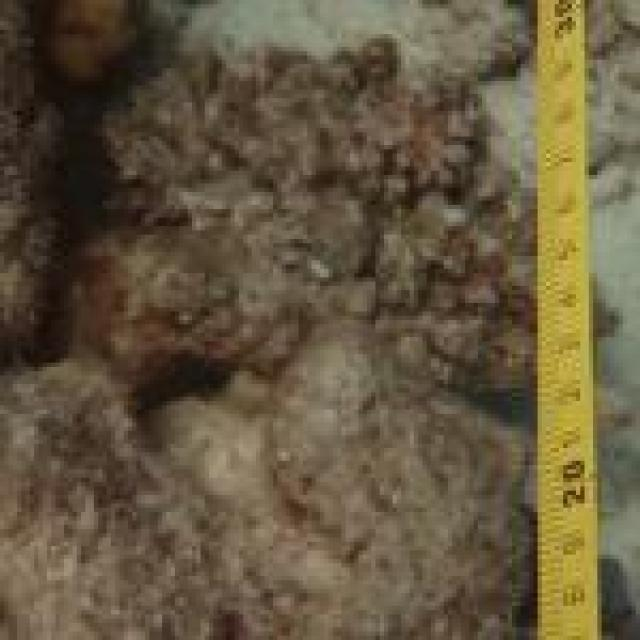Dead Coral: (7, 30, 543, 627)
